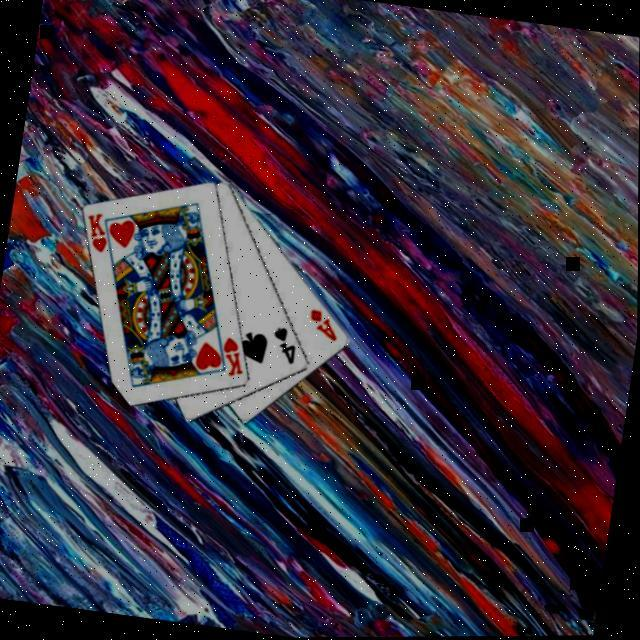4S: (266, 326, 299, 370)
AD: (303, 308, 341, 346)
KH: (214, 336, 248, 383), (78, 211, 112, 258)
